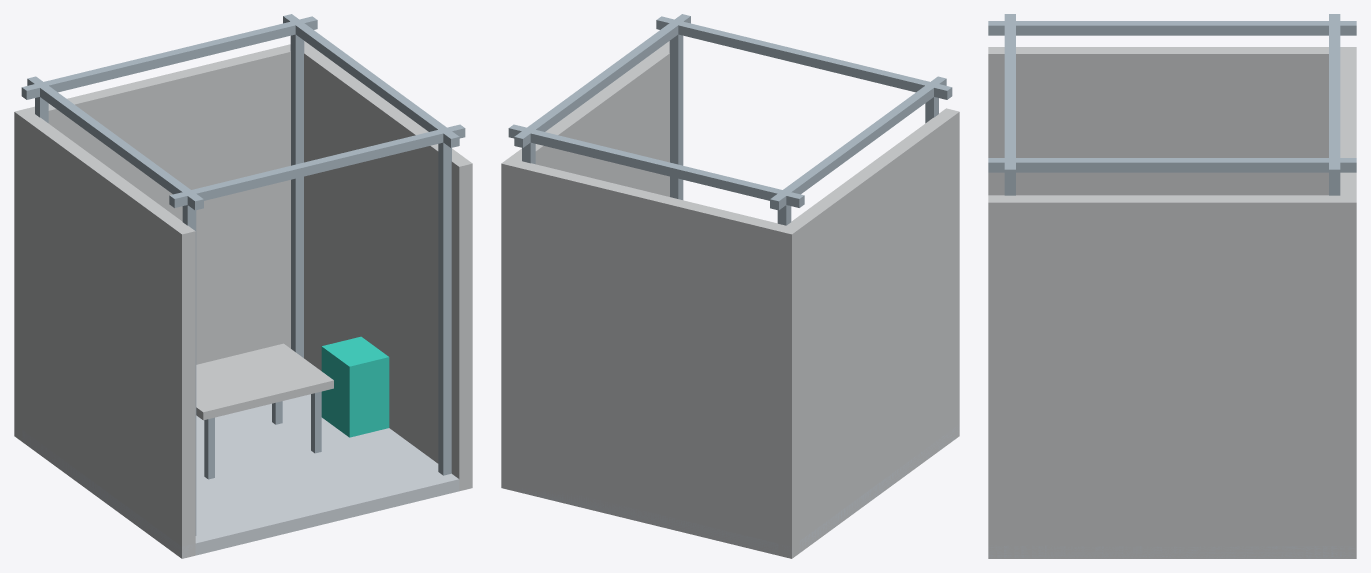
3 renders of one model, left to right at view 1: azimuth 30°, elevation 25°; view 2: azimuth 150°, elevation 25°; view 3: azimuth 270°, elevation 25°, orthographic. The views are drawn at different scales.
Parts seen in each view (by area): view 1: Exhibition Booth Concept; view 2: Exhibition Booth Concept; view 3: Exhibition Booth Concept.
Part boxes in pixels (box(x1,y1,x2,y2)): Exhibition Booth Concept: box(14, 14, 472, 558); Exhibition Booth Concept: box(501, 14, 959, 558); Exhibition Booth Concept: box(988, 14, 1356, 558).
Bounding box in the file's own units: 3 × 3.49 × 3.
